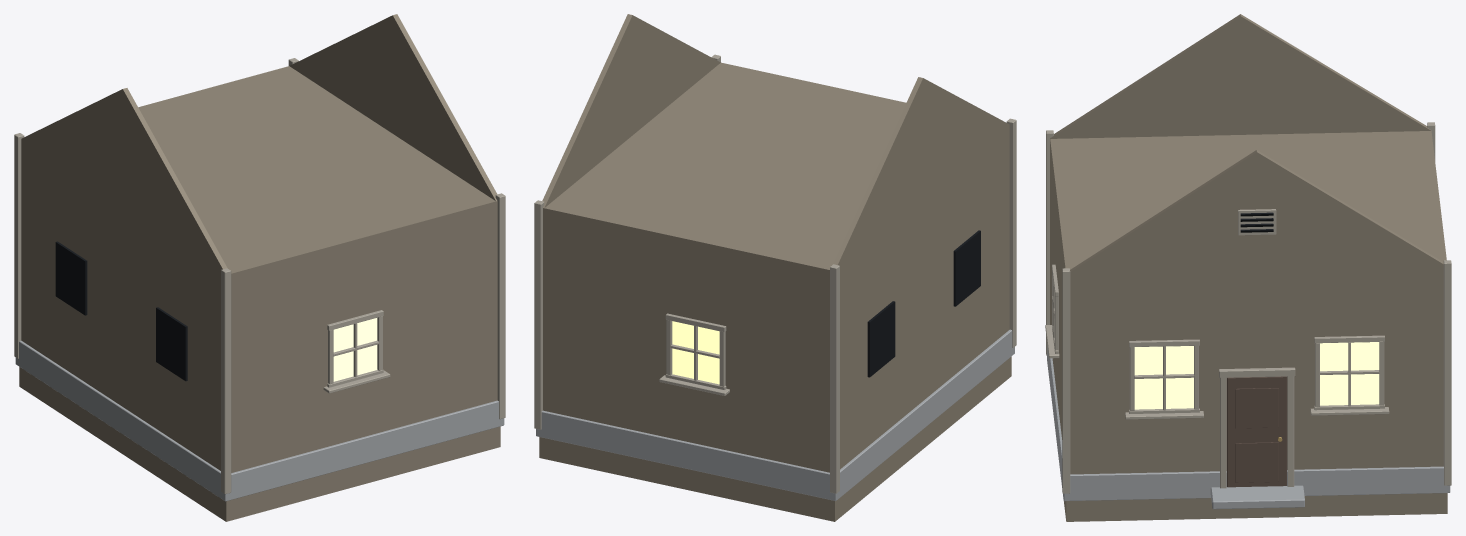
Rendered from house0_walls.glb.
The picture shows the model from 3 angles, left to right: view 1: azimuth 30°, elevation 25°; view 2: azimuth 150°, elevation 25°; view 3: azimuth 270°, elevation 25°; orthographic projection.
Visible parts, largest first — view 1: house0_walls; view 2: house0_walls; view 3: house0_walls.
Boxes of the visible parts, bbox=[...] form: house0_walls: bbox=[14, 14, 505, 521]; house0_walls: bbox=[534, 14, 1016, 521]; house0_walls: bbox=[1045, 14, 1451, 521].
Bounding box in the file's own units: 6.95 × 7.4 × 7.45.
